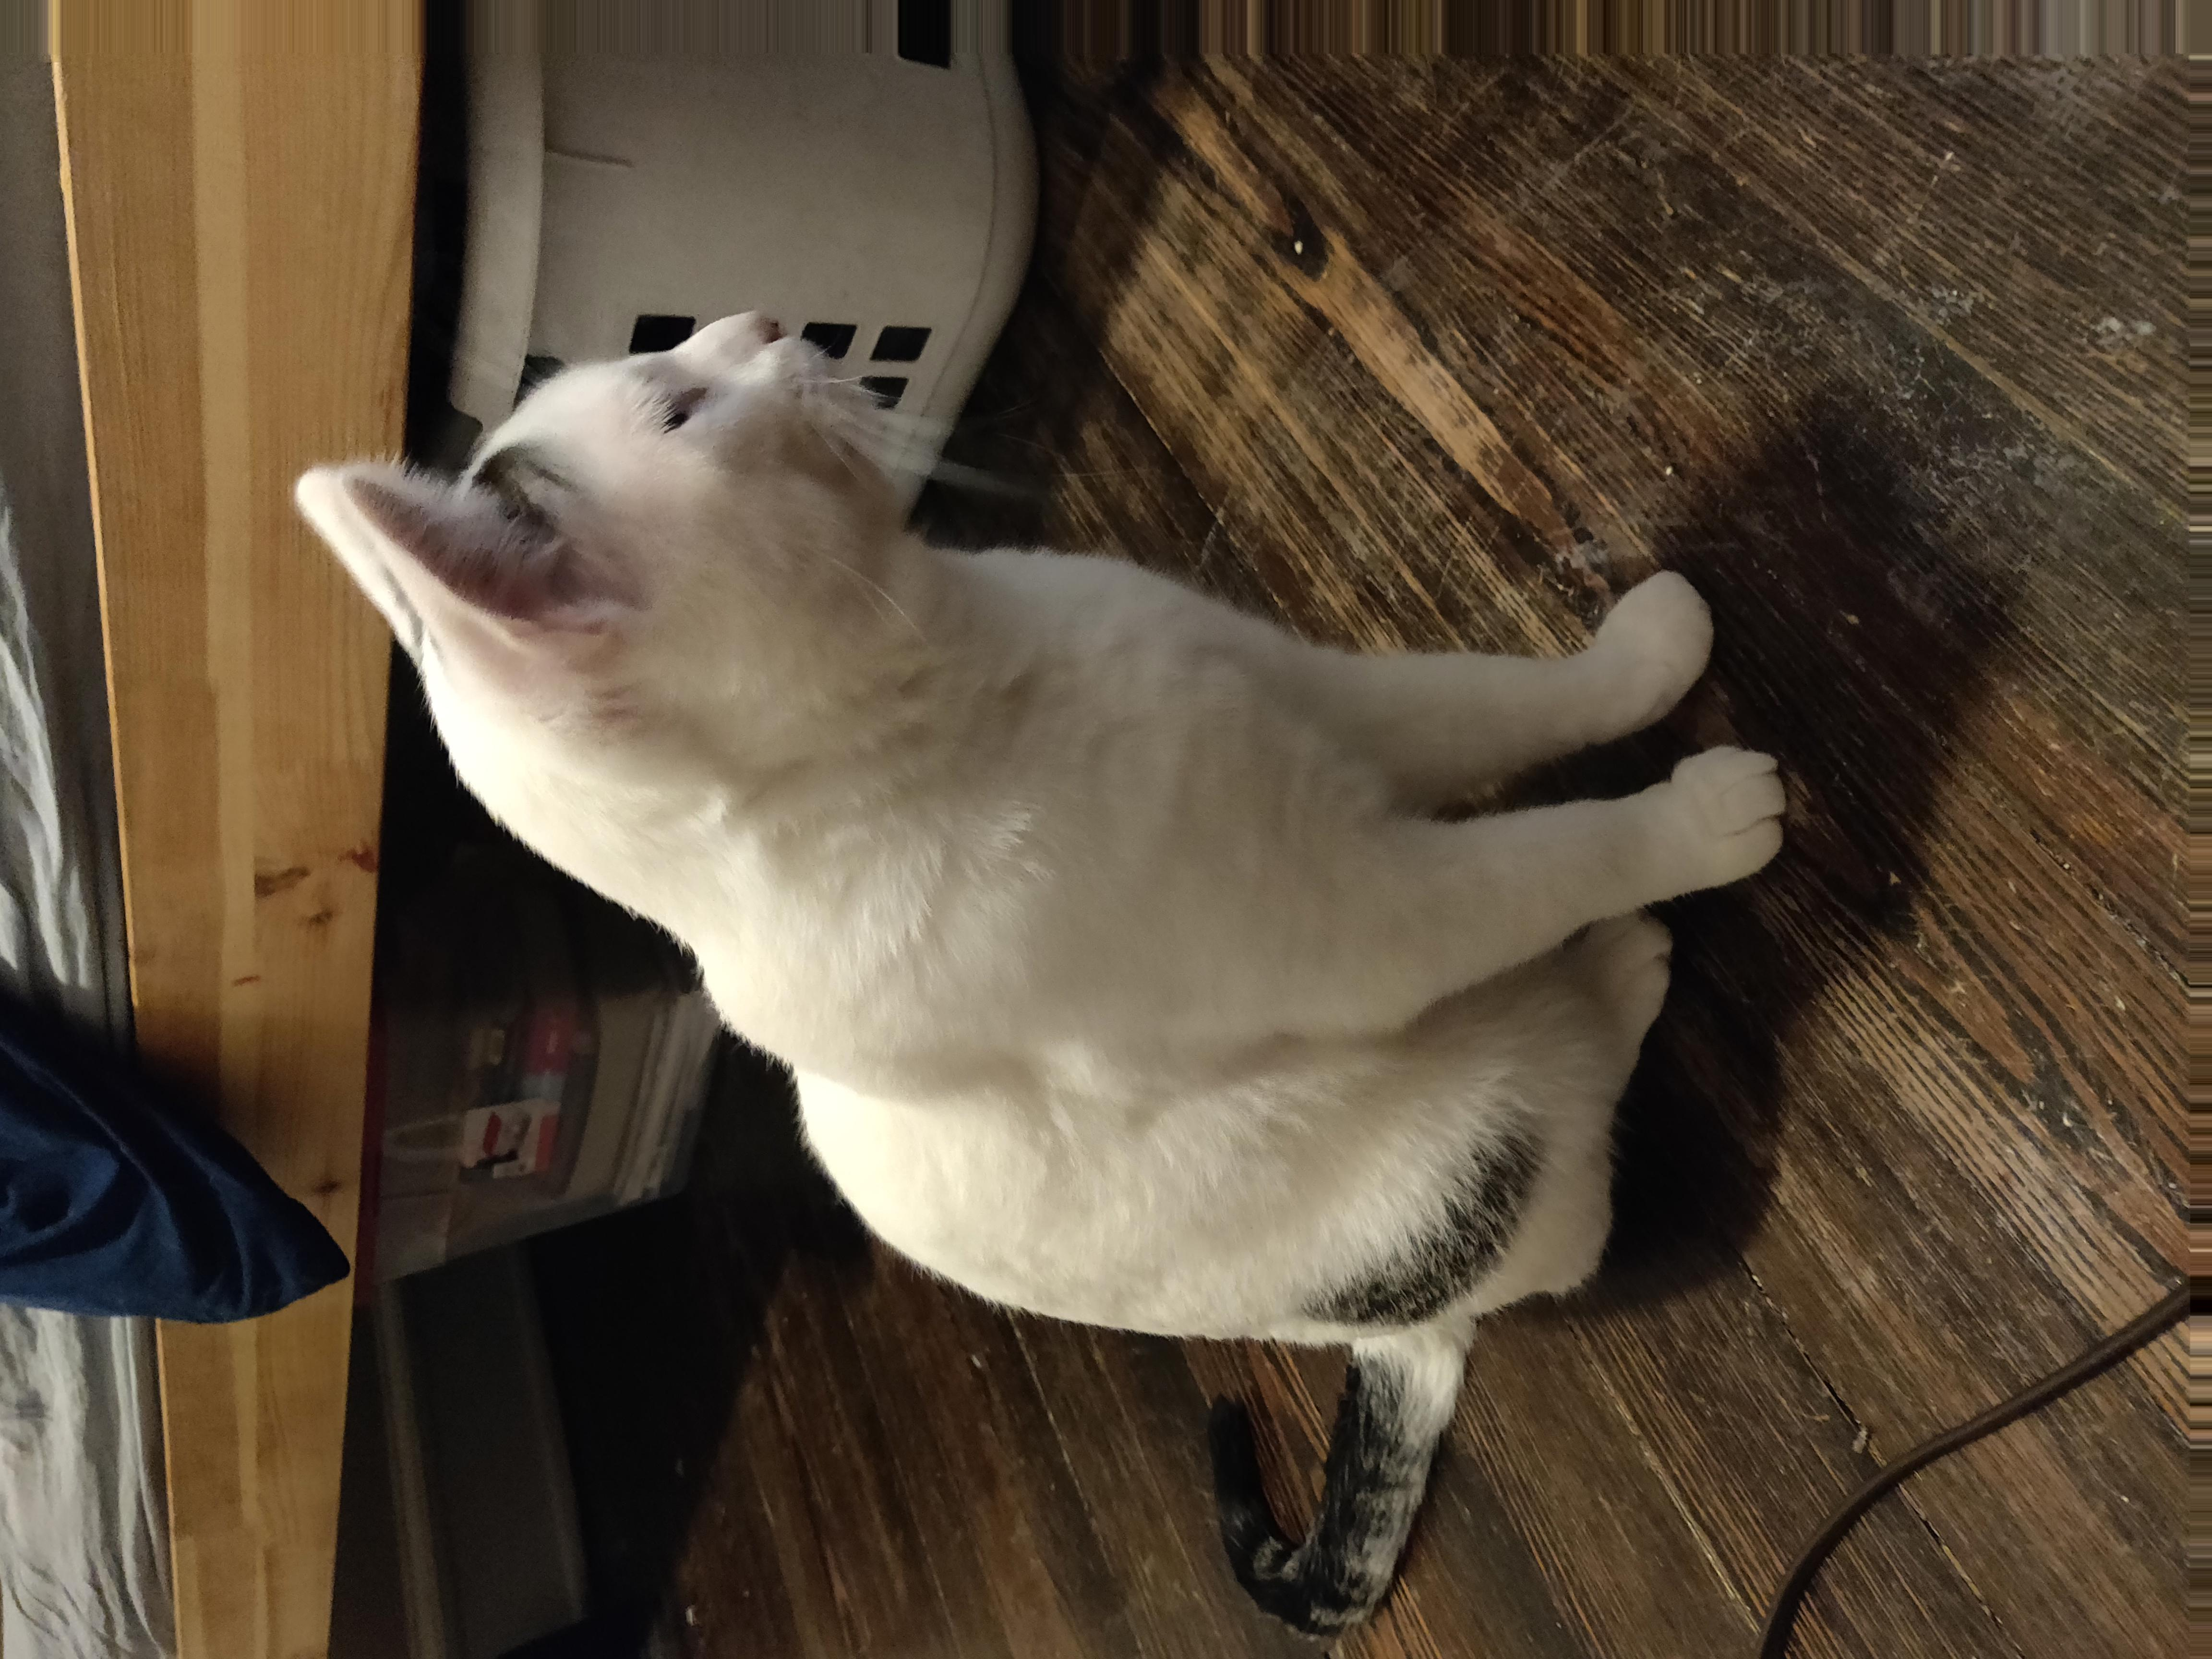cat: (301, 303, 1806, 1595)
